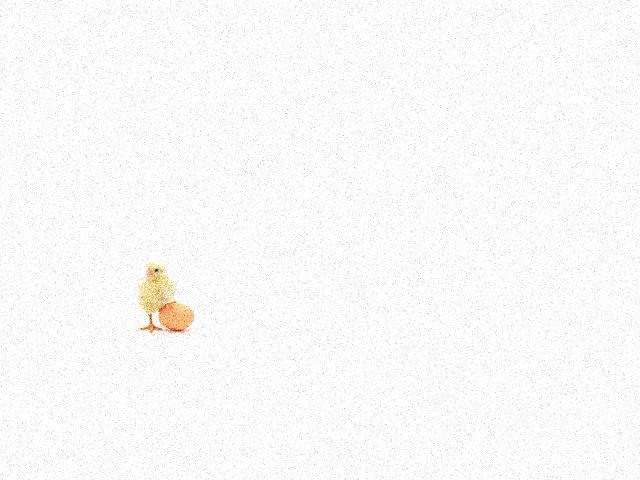egg: (157, 302, 194, 330)
